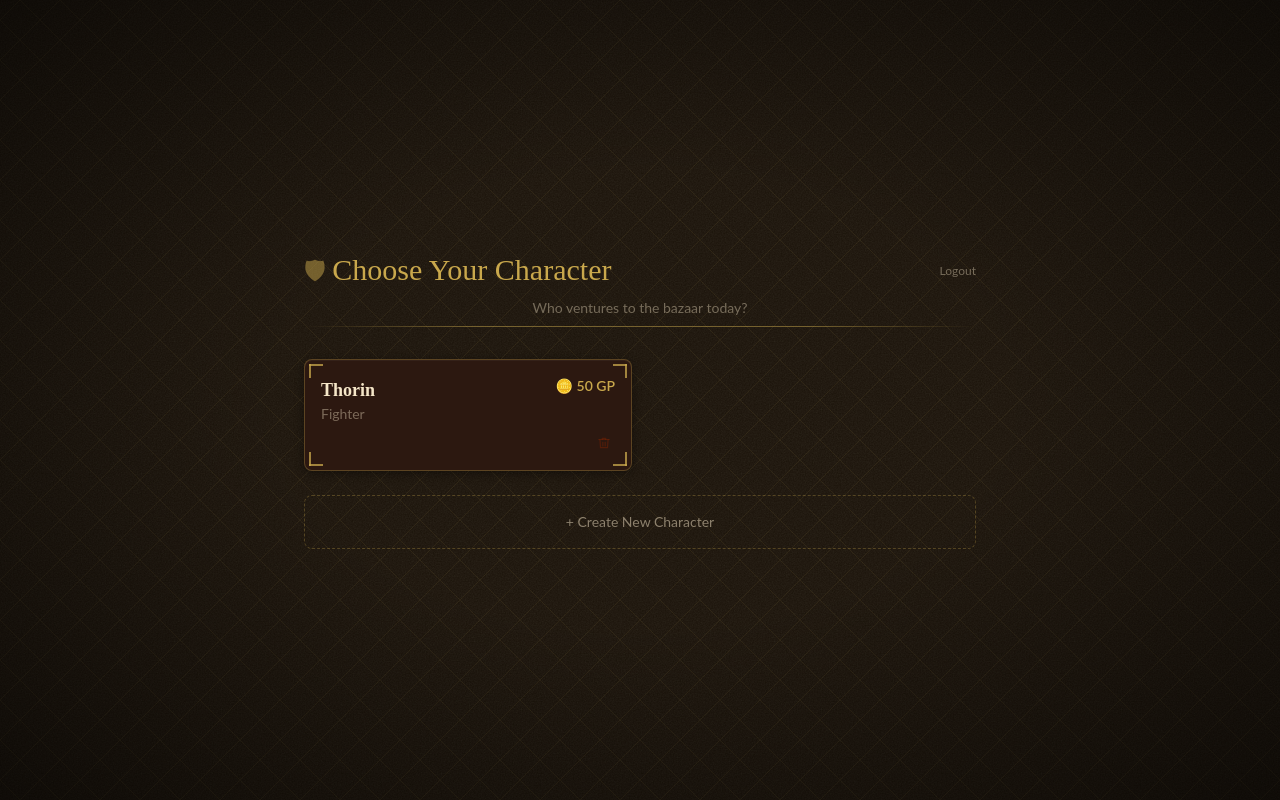
Test: CharacterSelectPage › shows create form when Create New Character is clicked
What coordinates should you click on to do the following:
click the button "+ Create New Character"
I would click on:
 (640, 522)
Its box is [304,494,976,548].
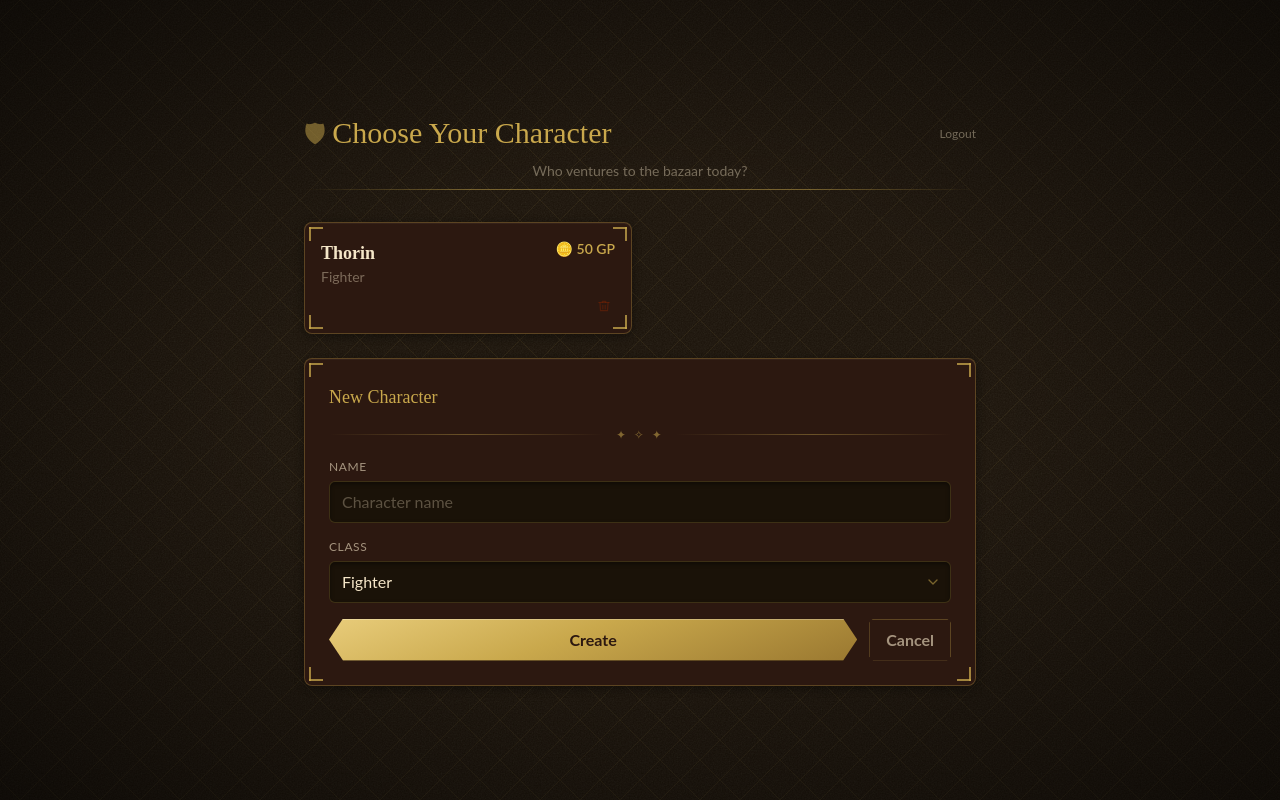
Result: the field with placeholder "Character name" is shown at [329,480,951,522]
